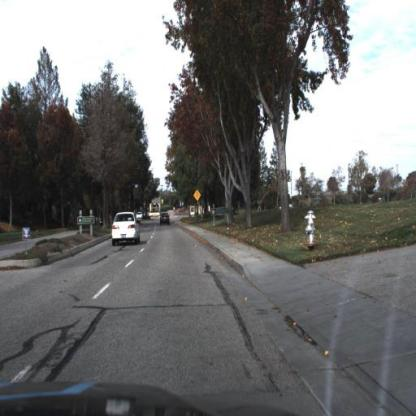car: (111, 212, 140, 246), (158, 213, 171, 227)
